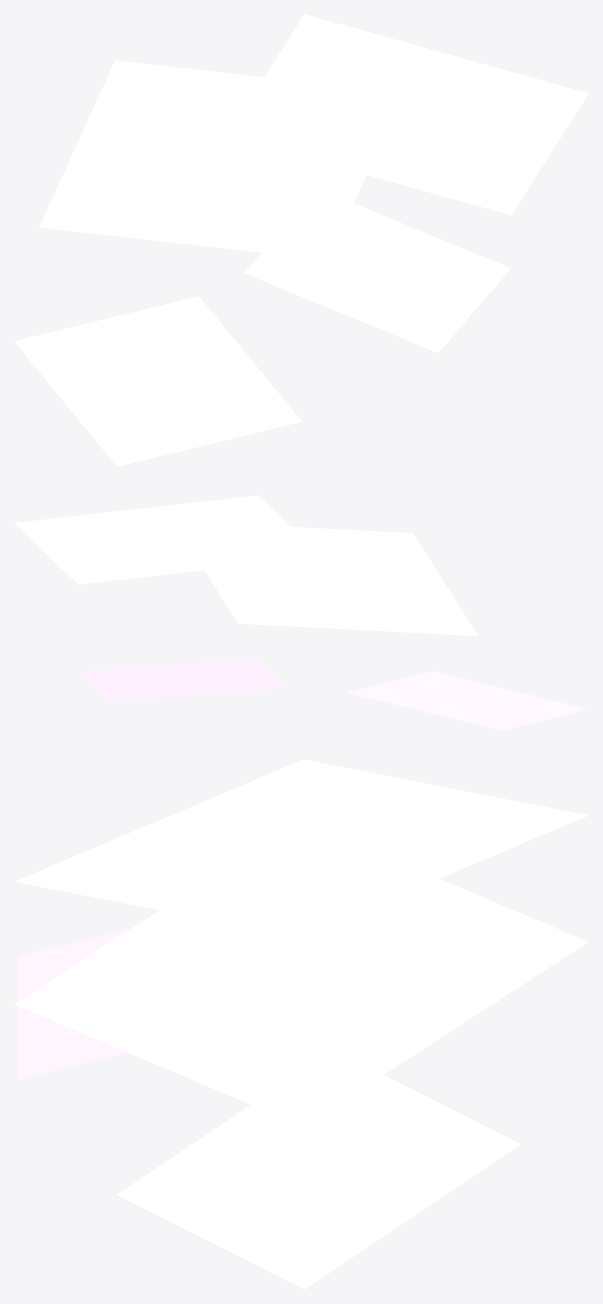
Rendered from wings_butterfly.glb.
The picture shows the model from 3 angles, top to bottom: view 1: azimuth 30°, elevation 25°; view 2: azimuth 150°, elevation 25°; view 3: azimuth 270°, elevation 25°; orthographic projection. The views are drawn at different scales.
Parts seen in each view (by area): view 1: wing_butterfly_upper_-1, wing_butterfly_upper_1, wing_butterfly_lower_-1, wing_butterfly_lower_1; view 2: wing_butterfly_upper_-1, wing_butterfly_upper_1, wing_butterfly_lower_-1, wing_butterfly_lower_1; view 3: wing_butterfly_upper_1, wing_butterfly_lower_1, wing_butterfly_upper_-1, wing_butterfly_lower_-1.
Part boxes in pixels (left/top/right/bottom): wing_butterfly_upper_-1: left=39, top=60, right=403, bottom=260; wing_butterfly_upper_1: left=227, top=14, right=588, bottom=215; wing_butterfly_lower_-1: left=14, top=296, right=301, bottom=466; wing_butterfly_lower_1: left=244, top=203, right=510, bottom=352; wing_butterfly_upper_-1: left=173, top=520, right=478, bottom=636; wing_butterfly_upper_1: left=14, top=495, right=321, bottom=584; wing_butterfly_lower_-1: left=346, top=671, right=588, bottom=730; wing_butterfly_lower_1: left=79, top=658, right=286, bottom=701; wing_butterfly_upper_1: left=14, top=819, right=588, bottom=1126; wing_butterfly_lower_1: left=117, top=1075, right=520, bottom=1289; wing_butterfly_upper_-1: left=14, top=759, right=588, bottom=937; wing_butterfly_lower_-1: left=17, top=928, right=130, bottom=1079.
Bounding box in the file's own units: 1.56 × 0.5255 × 0.9824.
